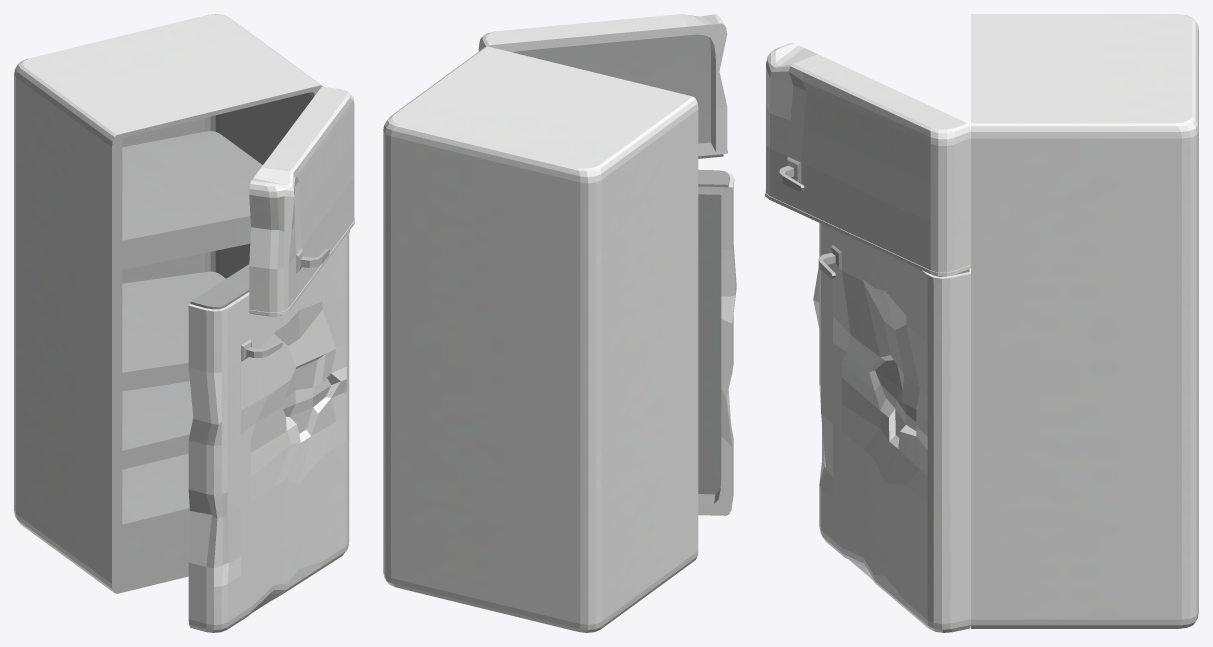
Rendered from fridge_1_opened.glb.
3 views of the same model, side by side, from view 1: azimuth 30°, elevation 25°; view 2: azimuth 150°, elevation 25°; view 3: azimuth 270°, elevation 25° (orthographic). The views are drawn at different scales.
Parts seen in each view (by area): view 1: fridge_open_2, lower_door, upper_door; view 2: fridge_open_2, upper_door, lower_door; view 3: fridge_open_2, lower_door, upper_door.
Boxes of the visible parts, x1=… form: fridge_open_2: x1=14, y1=14, x2=322, y2=593; lower_door: x1=188, y1=231, x2=349, y2=632; upper_door: x1=249, y1=86, x2=354, y2=316; fridge_open_2: x1=383, y1=46, x2=698, y2=632; upper_door: x1=478, y1=14, x2=727, y2=158; lower_door: x1=698, y1=169, x2=736, y2=515; fridge_open_2: x1=971, y1=14, x2=1198, y2=628; lower_door: x1=813, y1=223, x2=970, y2=632; upper_door: x1=765, y1=42, x2=970, y2=276.
Size of the model in its own units: 0.7539 by 1.45 by 1.13.
1 material, 1 textured.
